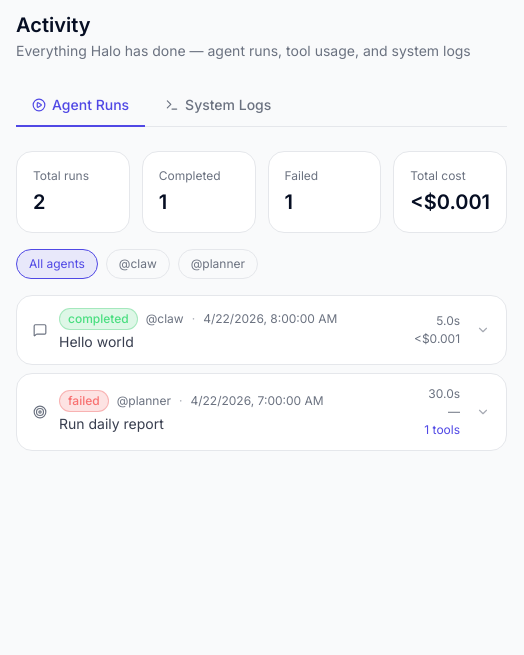
Test case: F-016: Activity page (Agent Runs + System Logs) › shows error in failed run detail
Step 1. Click the text "Run daily report" → [111, 424], box [59,415,164,432]
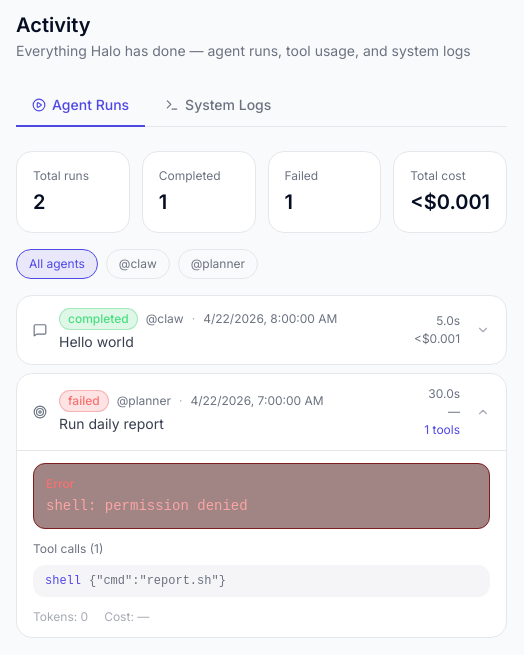
Now the text "shell: permission denied" is shown, box [46,498,248,514]
